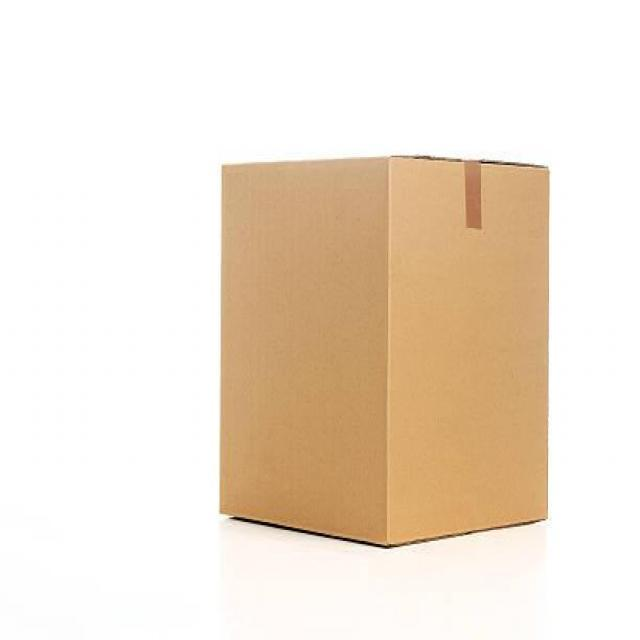box: (214, 139, 562, 554)
